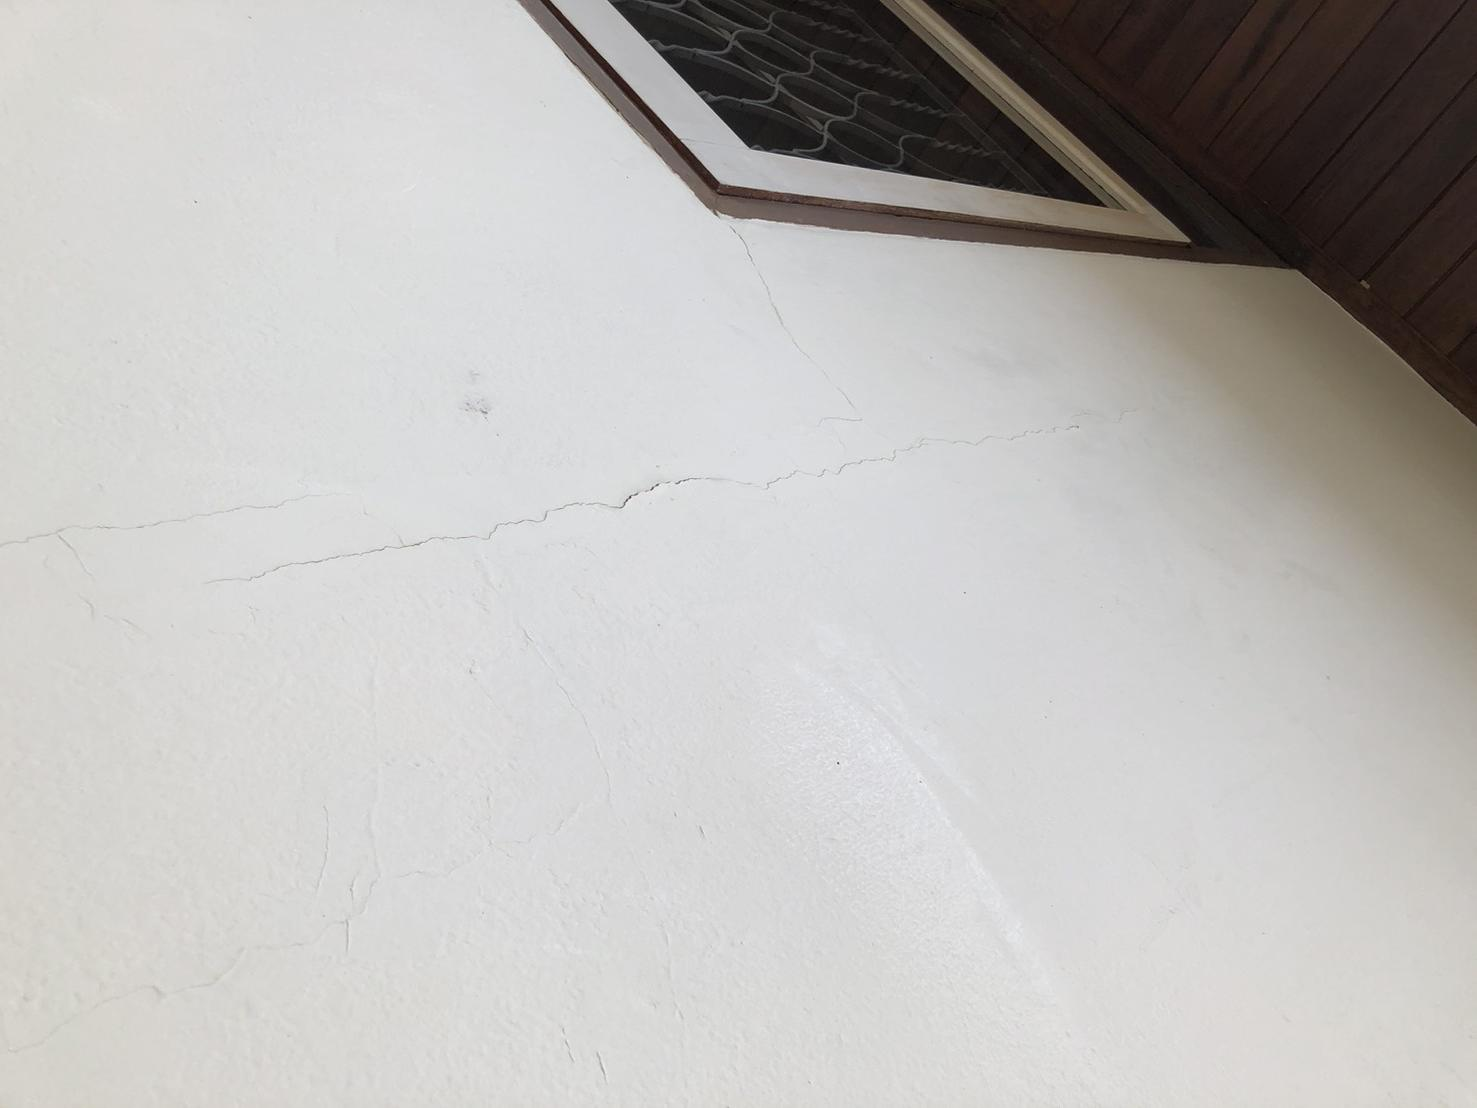Low: (6, 348, 1230, 616)
